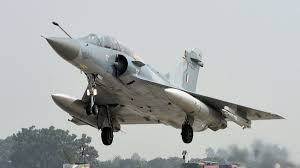maybay_muctieu: (40, 20, 287, 146)
